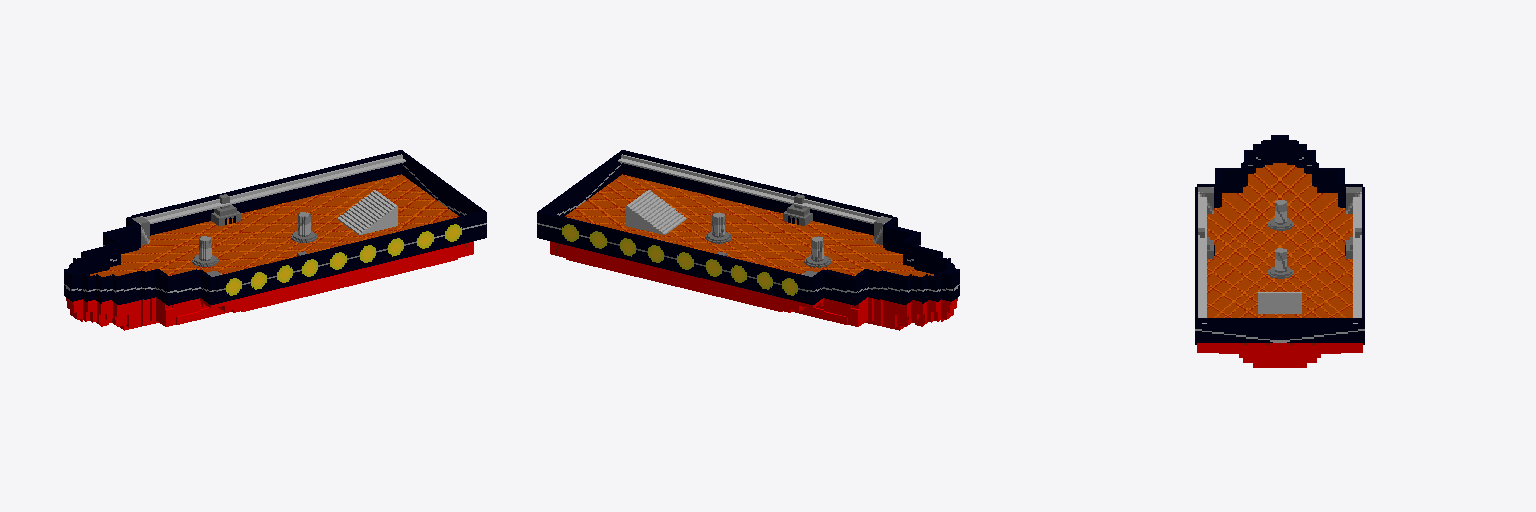
3 renders of one model, left to right at view 1: azimuth 30°, elevation 25°; view 2: azimuth 150°, elevation 25°; view 3: azimuth 270°, elevation 25°, orthographic.
Visible parts, largest first — view 1: object 1; view 2: object 1; view 3: object 1.
Boxes of the visible parts, box(x1,y1,x2,y2) form: object 1: box(64, 150, 486, 330); object 1: box(537, 150, 959, 330); object 1: box(1195, 135, 1364, 367).
Size of the model in its own units: 25.5 by 3.8 by 10.
Materials: 1 (1 with a texture image).